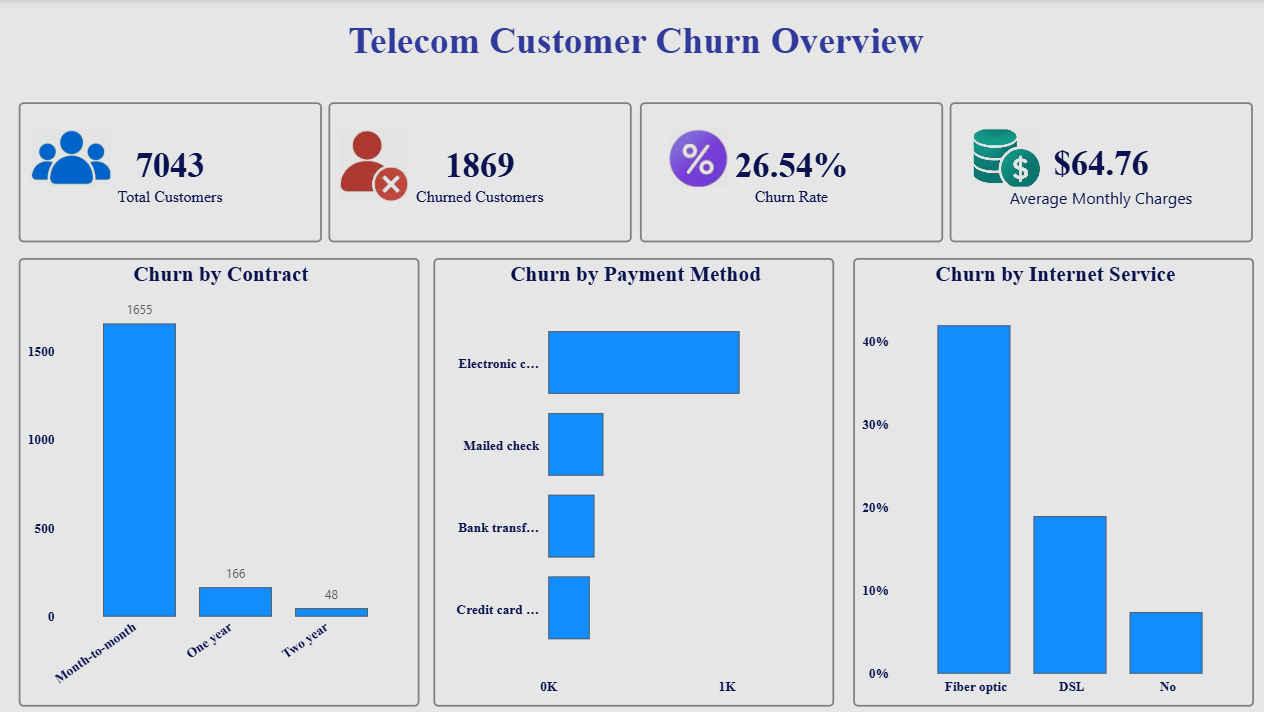

What the dashboard file says about the page in this screenshot:
{"tool":"powerbi","page":{"name":"Telecom Customer Churn Overview","canvas":[1280,720],"ordinal":0},"visuals":[{"type":"card","fields":{"Values":["telco_churn_cleaned.Total Customers"]},"box":[23,103.5,302.9,139.9],"z":0},{"type":"card","fields":{"Values":["telco_churn_cleaned.Churned Customers"]},"box":[333.6,103.5,302.9,139.9],"z":1000},{"type":"card","fields":{"Values":["telco_churn_cleaned.Churn Rate"]},"box":[644.1,103.5,302.9,139.9],"z":2000},{"type":"card","fields":{"Values":["telco_churn_cleaned.Average Monthly Charges"]},"box":[954.6,103.5,302.9,139.9],"z":3000},{"type":"clusteredColumnChart","title":"Churn by Contract","fields":{"Category":["telco_churn_cleaned.Contract"],"Y":["telco_churn_cleaned.Churned Customers"]},"box":[23,258.8,400.6,448.6],"z":4000},{"type":"clusteredBarChart","title":"Churn by Payment Method","fields":{"Category":["telco_churn_cleaned.PaymentMethod"],"Y":["telco_churn_cleaned.Churned Customers"]},"box":[439,258.8,400.6,448.6],"z":5000},{"type":"clusteredColumnChart","title":"Churn by Internet Service","fields":{"Category":["telco_churn_cleaned.InternetService"],"Y":["telco_churn_cleaned.Churn Rate"]},"box":[856.9,258.8,400.6,448.6],"z":6000},{"type":"textbox","box":[23,15.3,1234.5,53.7],"z":7000},{"type":"image","box":[659.4,130.4,86.3,57.5],"z":8000},{"type":"image","box":[975.7,130.4,69,57.5],"z":9000},{"type":"image","box":[23,130.4,103.5,57.5],"z":10000},{"type":"image","box":[333.6,130.4,90.1,72.8],"z":11000}]}

Visuals, with their boxes in screenshot pixels (x1, y1, x2, y2), scaled from the page's 1280x720 canvas onto the 1264x712 screenshot:
card - telco_churn_cleaned.Total Customers: Rect(23, 102, 322, 241)
card - telco_churn_cleaned.Churned Customers: Rect(329, 102, 629, 241)
card - telco_churn_cleaned.Churn Rate: Rect(636, 102, 935, 241)
card - telco_churn_cleaned.Average Monthly Charges: Rect(943, 102, 1242, 241)
"Churn by Contract" clusteredColumnChart: Rect(23, 256, 418, 700)
"Churn by Payment Method" clusteredBarChart: Rect(434, 256, 829, 700)
"Churn by Internet Service" clusteredColumnChart: Rect(846, 256, 1242, 700)
textbox: Rect(23, 15, 1242, 68)
image: Rect(651, 129, 736, 186)
image: Rect(964, 129, 1032, 186)
image: Rect(23, 129, 125, 186)
image: Rect(329, 129, 418, 201)
